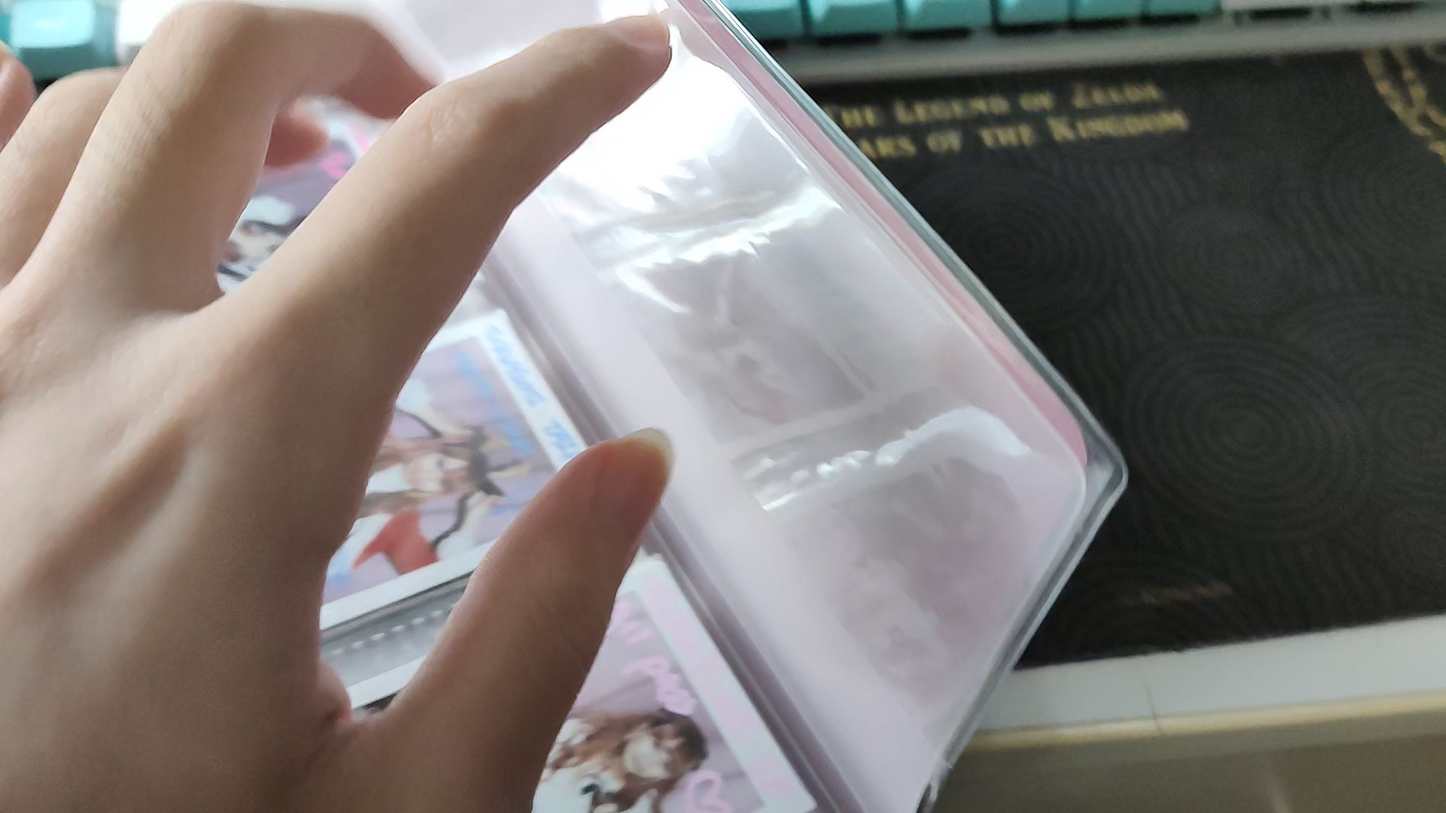Photo_book: (0, 0, 1135, 813)
